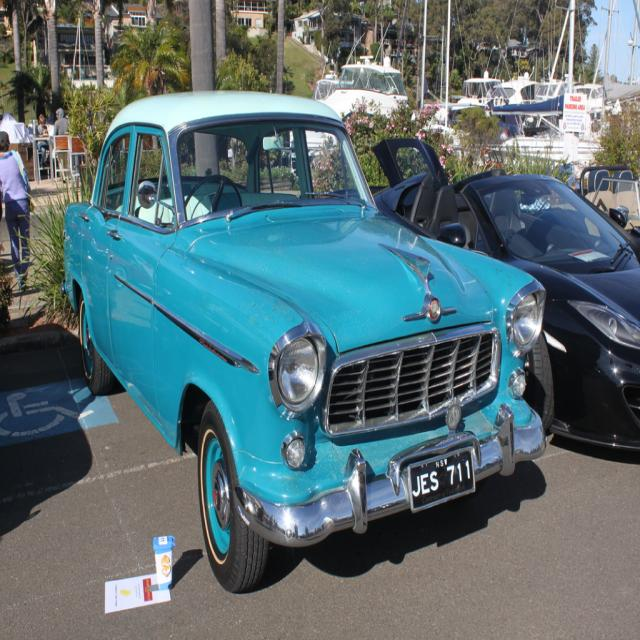car: (60, 89, 550, 593)
